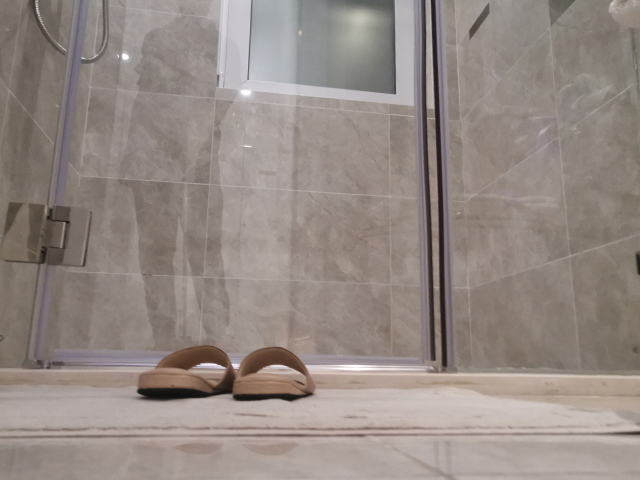carpet: (4, 383, 639, 434)
slippers: (135, 343, 232, 396), (231, 347, 312, 398)
